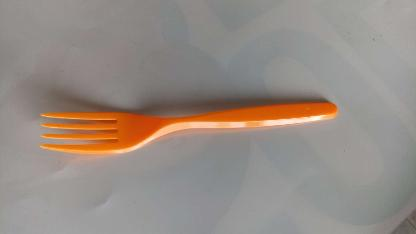Others: (41, 98, 341, 156)
